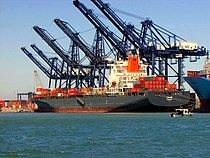Ship: (24, 52, 188, 116)
